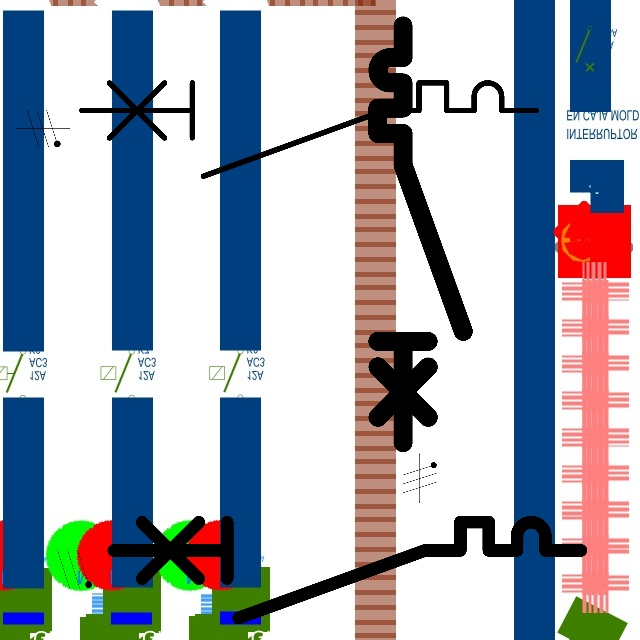interruptor_termomagnetico: (101, 510, 592, 630), (70, 71, 547, 188), (367, 15, 474, 453)
